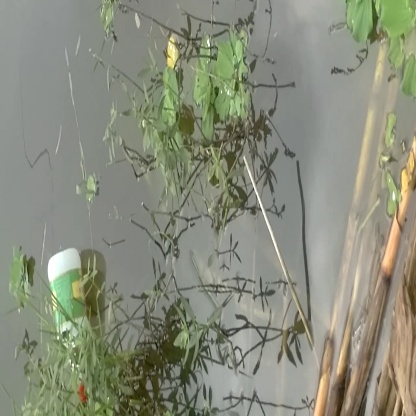bottle: (46, 249, 106, 387)
